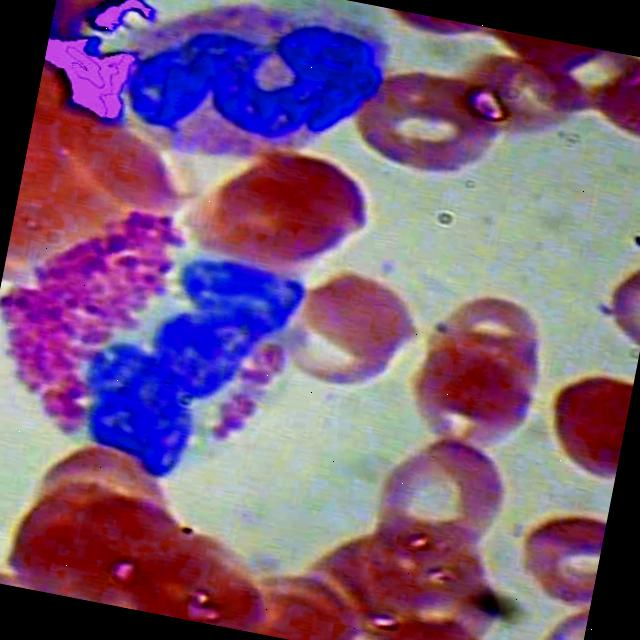RBC: (358, 417, 528, 580), (212, 132, 396, 268), (352, 55, 516, 187), (122, 532, 286, 636), (460, 48, 595, 156), (277, 298, 412, 406), (436, 282, 571, 390), (406, 353, 541, 461), (302, 264, 436, 372), (420, 322, 554, 429), (538, 354, 636, 486), (516, 499, 608, 610), (237, 566, 367, 640), (374, 588, 502, 640), (598, 242, 640, 363), (591, 49, 640, 147)
WBC: (0, 169, 325, 505), (103, 0, 401, 197)
